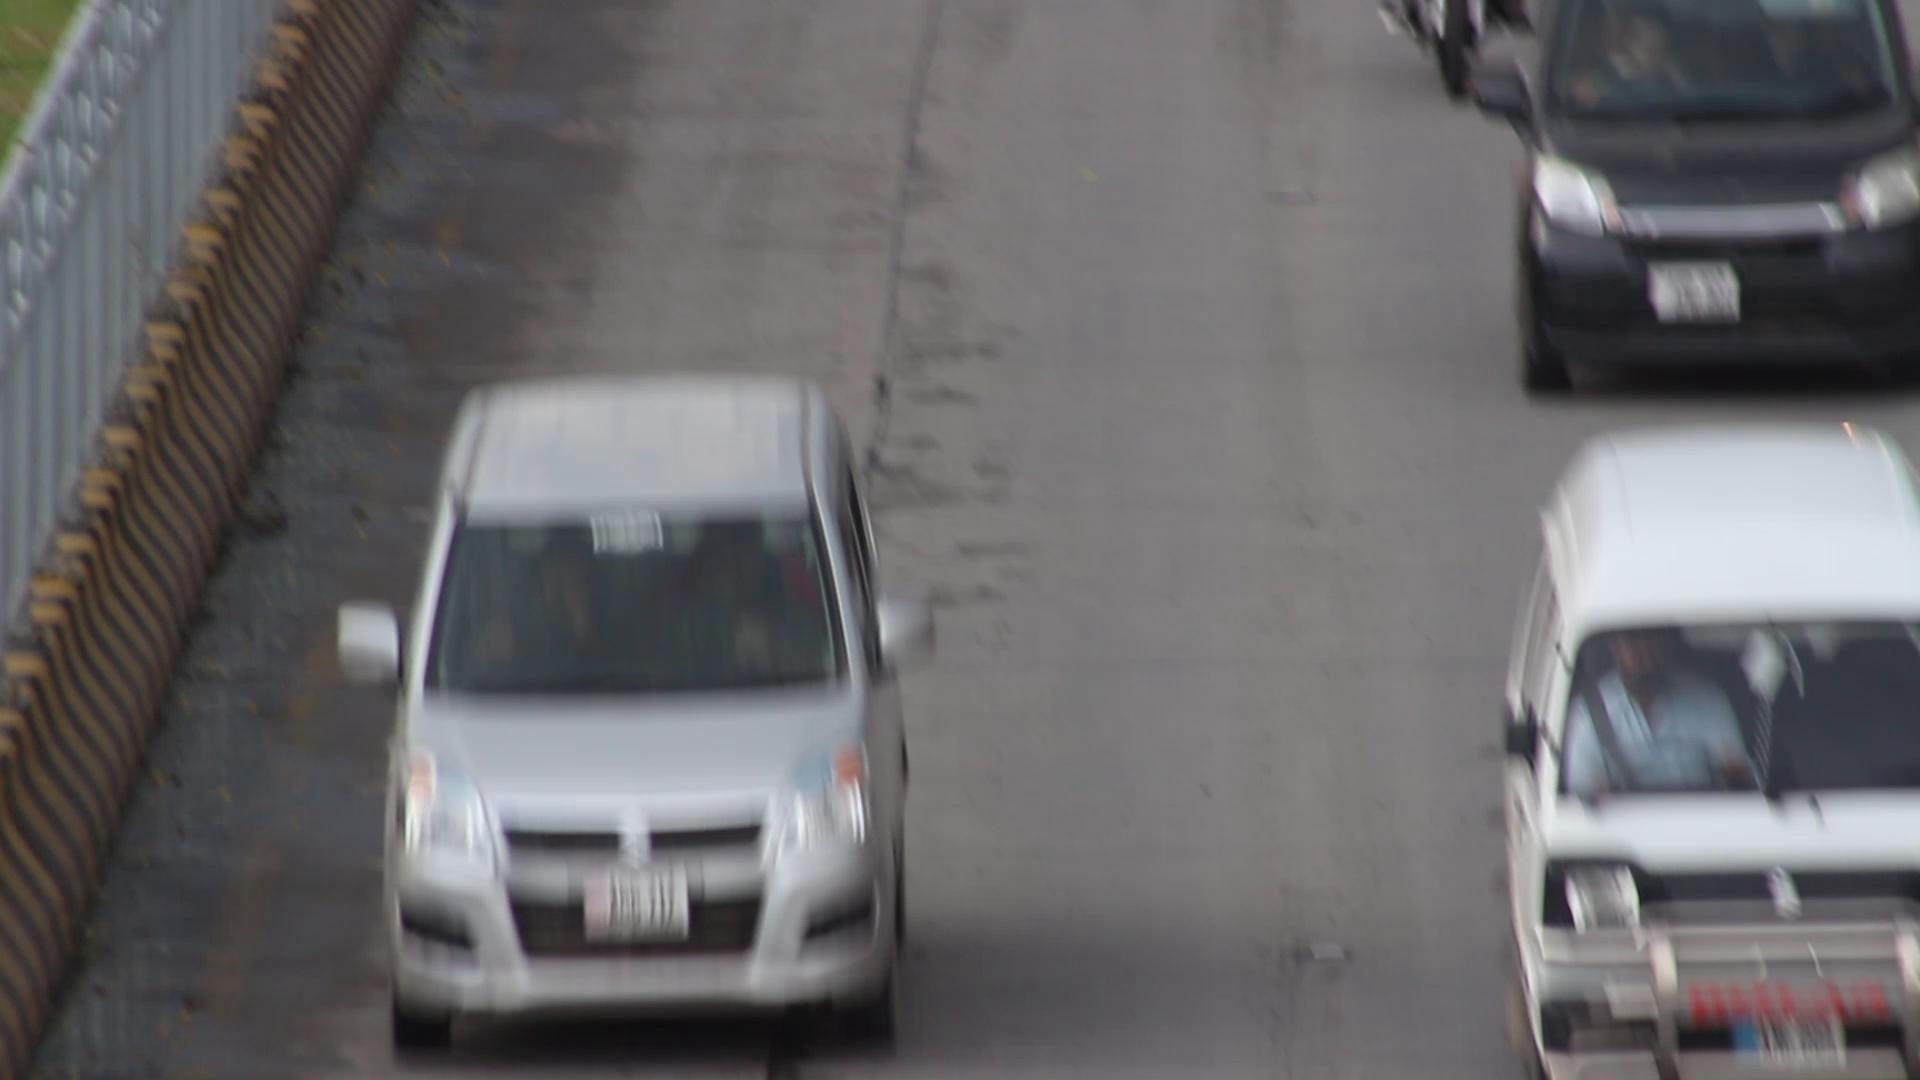windshield: (411, 487, 868, 709)
